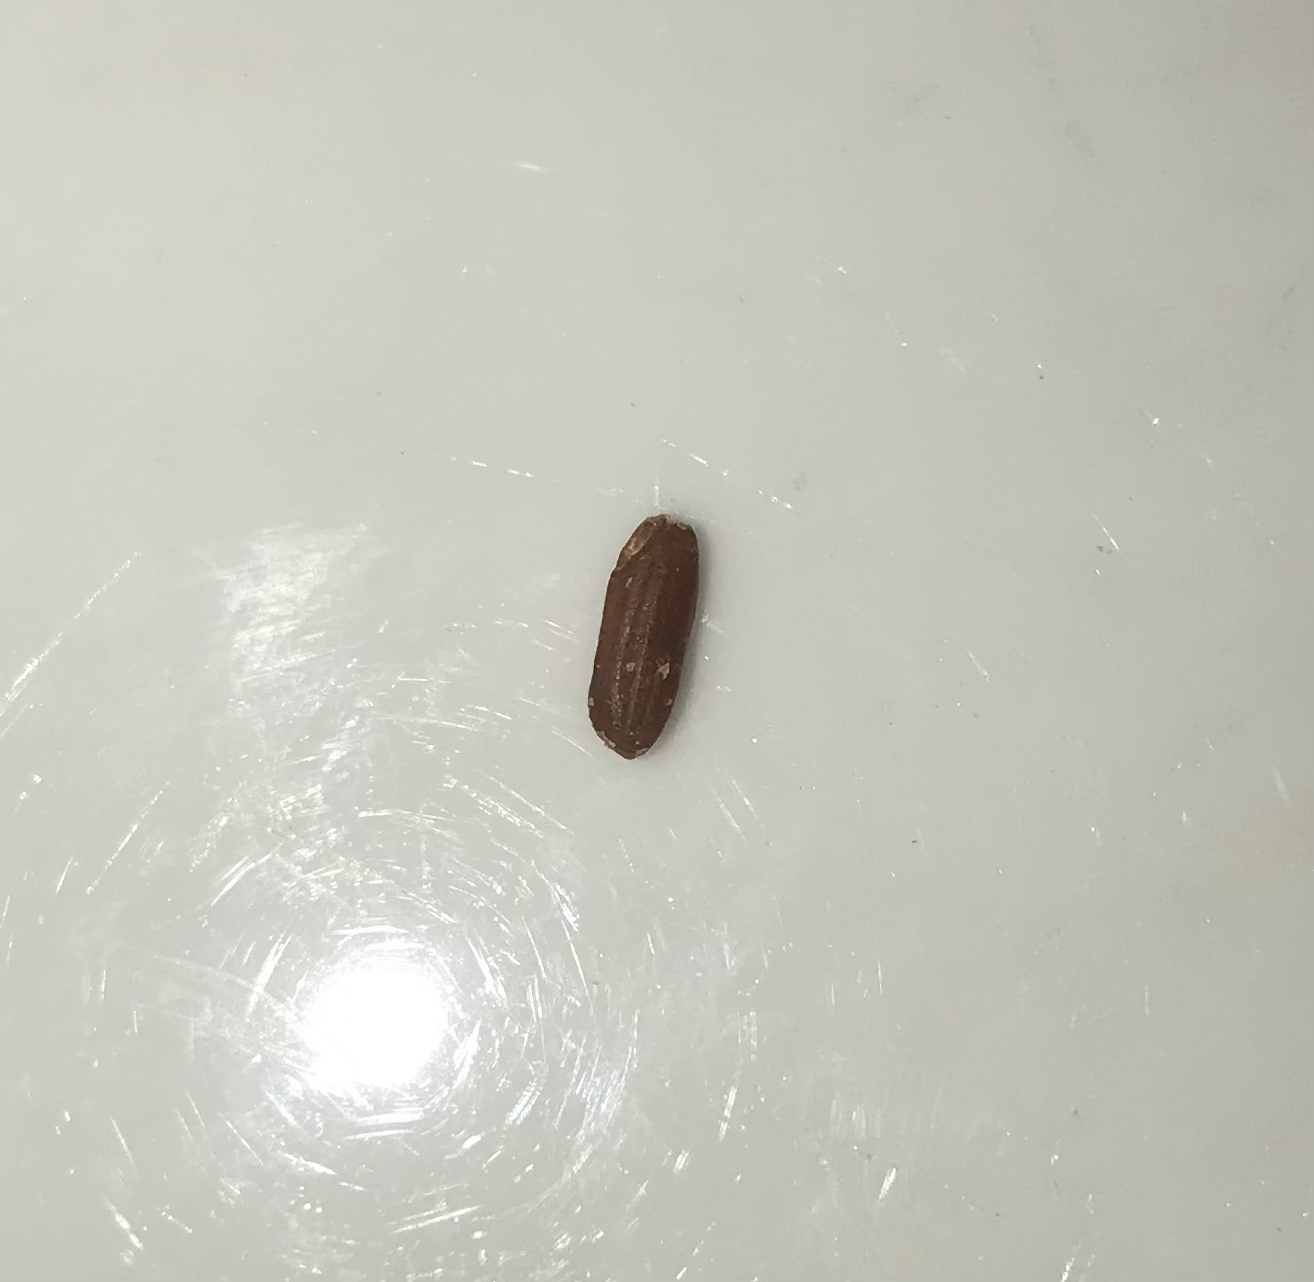Gao Lut Do: (582, 501, 703, 771)
